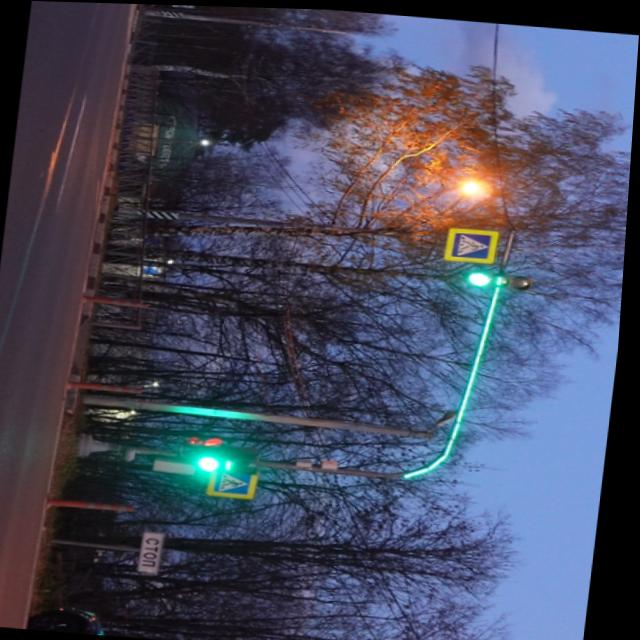green_light: (176, 442, 230, 498)
